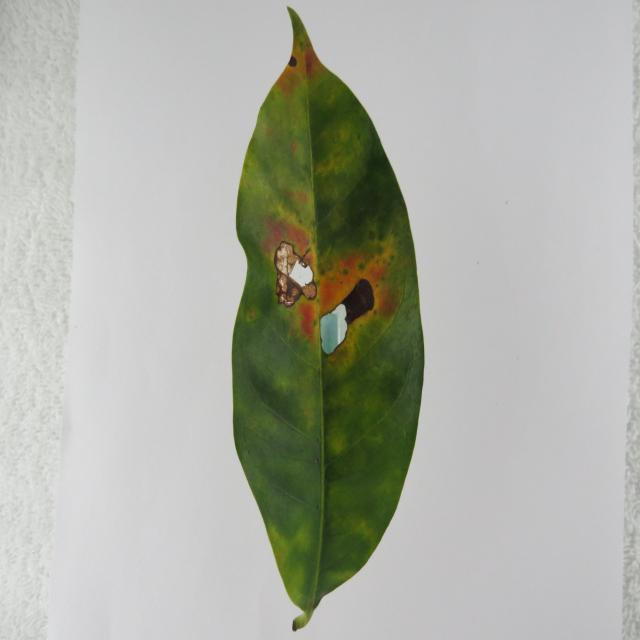DeficienciaNutricional-Fosforo: (232, 8, 424, 630)
